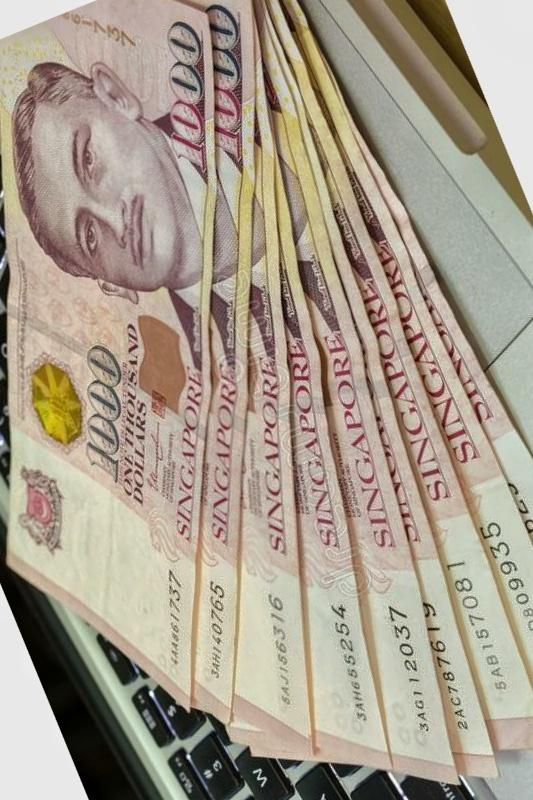1000SingaporeDollar: (10, 0, 205, 687)
